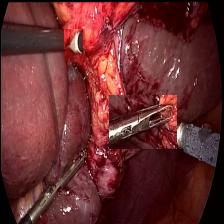Grasper: (108, 94, 175, 148), (38, 145, 86, 211)
Hook: (63, 28, 81, 54)
